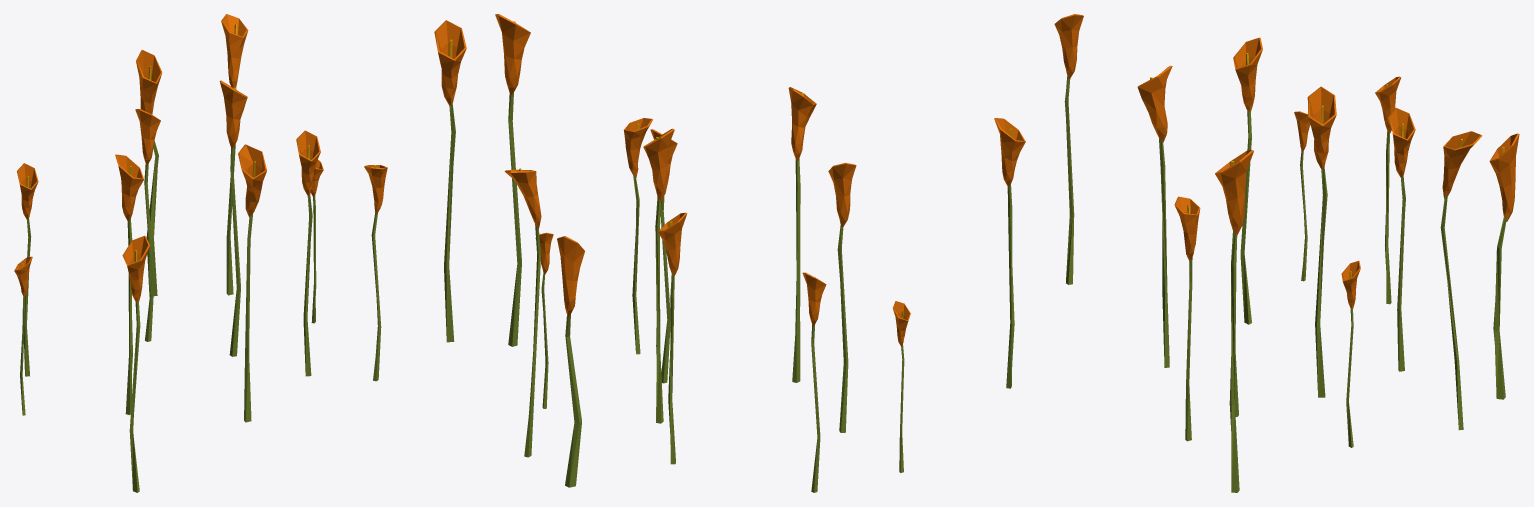
The model's file is Flower 5_2.fbx.
The picture shows the model from 3 angles, left to right: view 1: azimuth 30°, elevation 25°; view 2: azimuth 150°, elevation 25°; view 3: azimuth 270°, elevation 25°; orthographic projection. The views are drawn at different scales.
Visible parts, largest first — view 1: Flower 5_2; view 2: Flower 5_2; view 3: Flower 5_2.
Boxes of the visible parts, left/top/right/bottom form: Flower 5_2: left=14, top=14, right=466, bottom=492; Flower 5_2: left=495, top=14, right=1025, bottom=492; Flower 5_2: left=1054, top=14, right=1519, bottom=492.
Bounding box in the file's own units: 1.33 × 0.9598 × 1.18.
